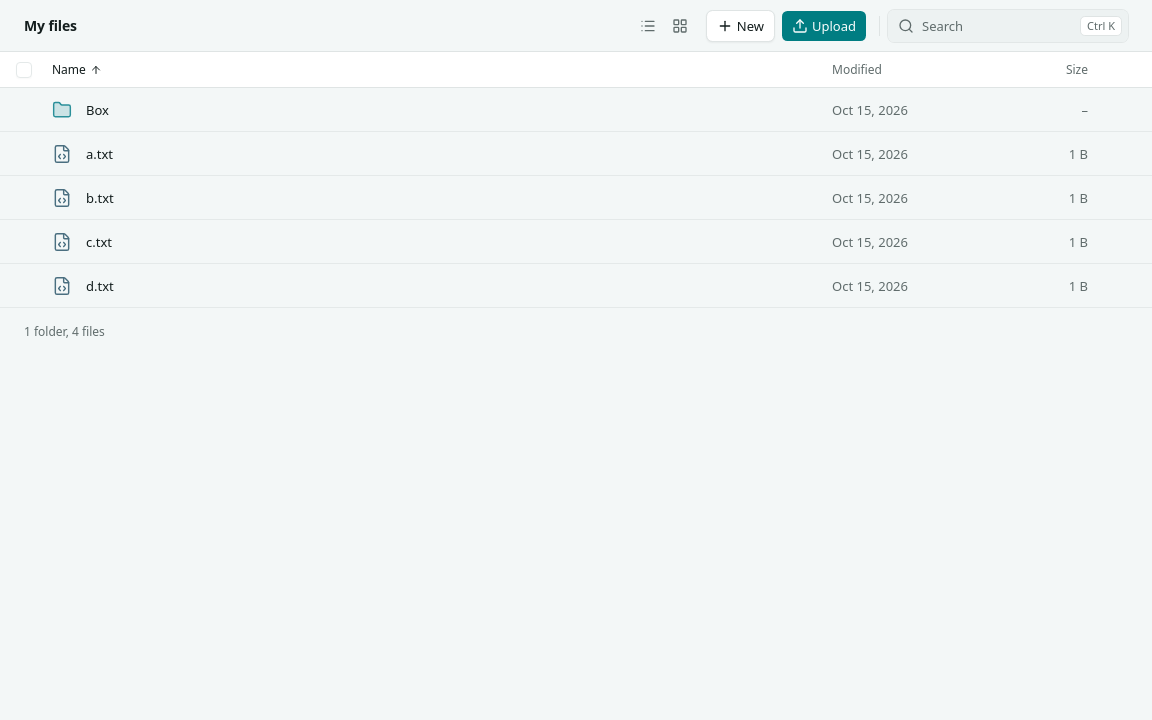
Test: Del with several selected opens the bulk delete dialog
Expected: the text "a.txt" is shown, [86,144,113,164]
Click the text "a.txt" at x=576, y=154, box [0,132,1151,176]
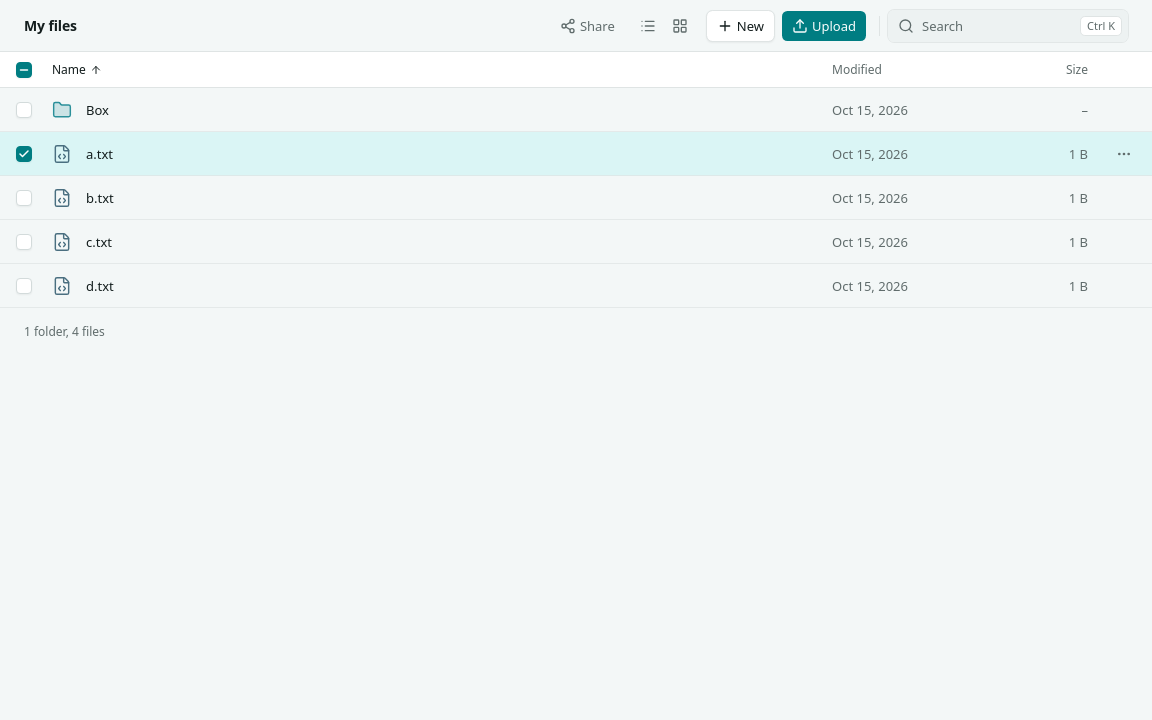
Click the text "c.txt" at x=576, y=242, box [0,220,1151,264]
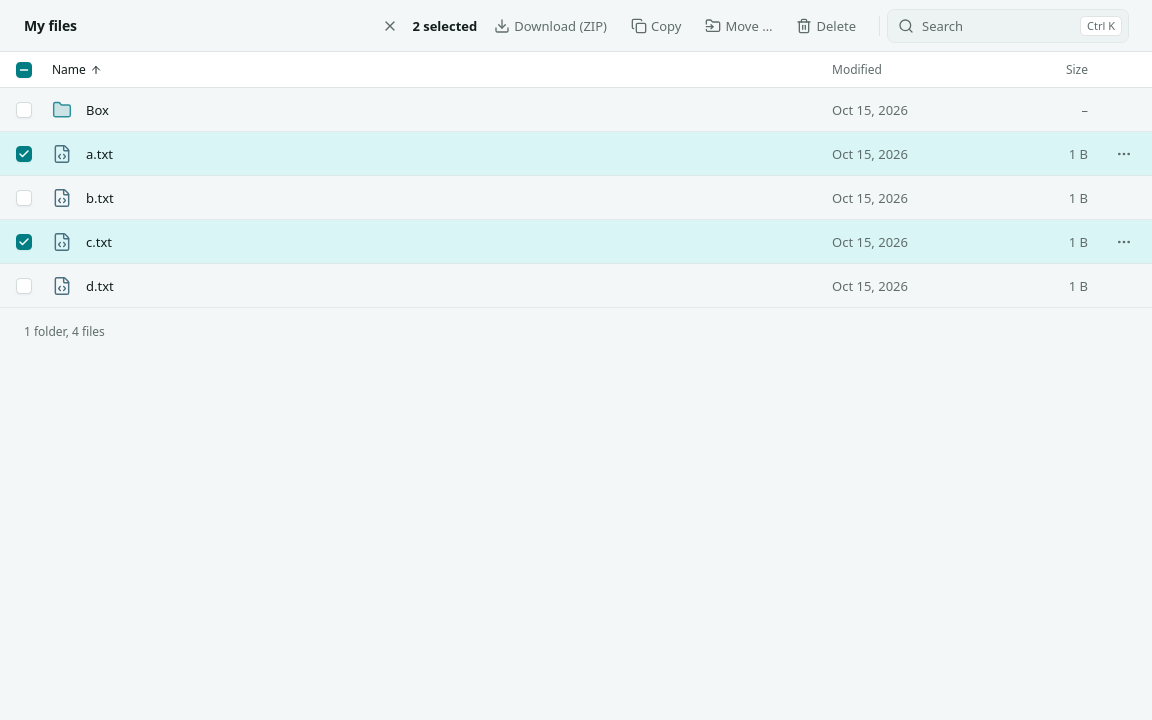
Press Delete in the text "c.txt", box [0,220,1151,264]
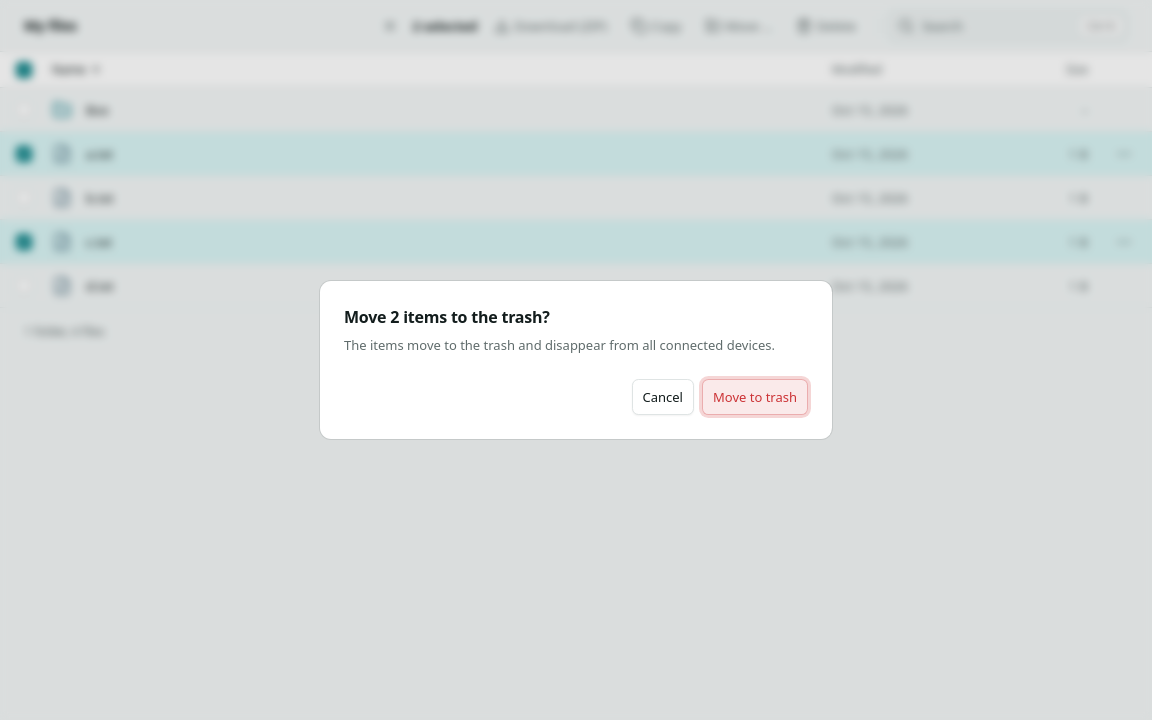
Expected: the heading "Move 2 items to the trash?" is shown, [344,305,550,329]
